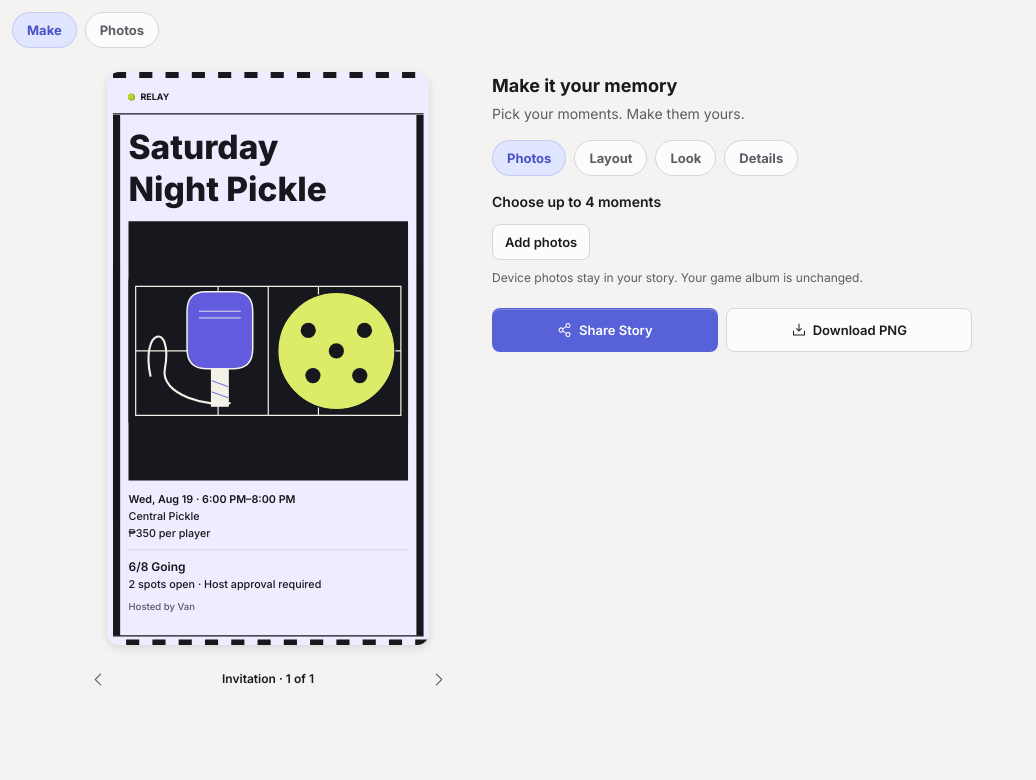
shows Make and Photos before play on public games
Expected: the button "Make" is shown, [12,12,77,48]
Click the button with aria-label "Photos, 0". click: (122, 30)
box: [85,12,159,48]
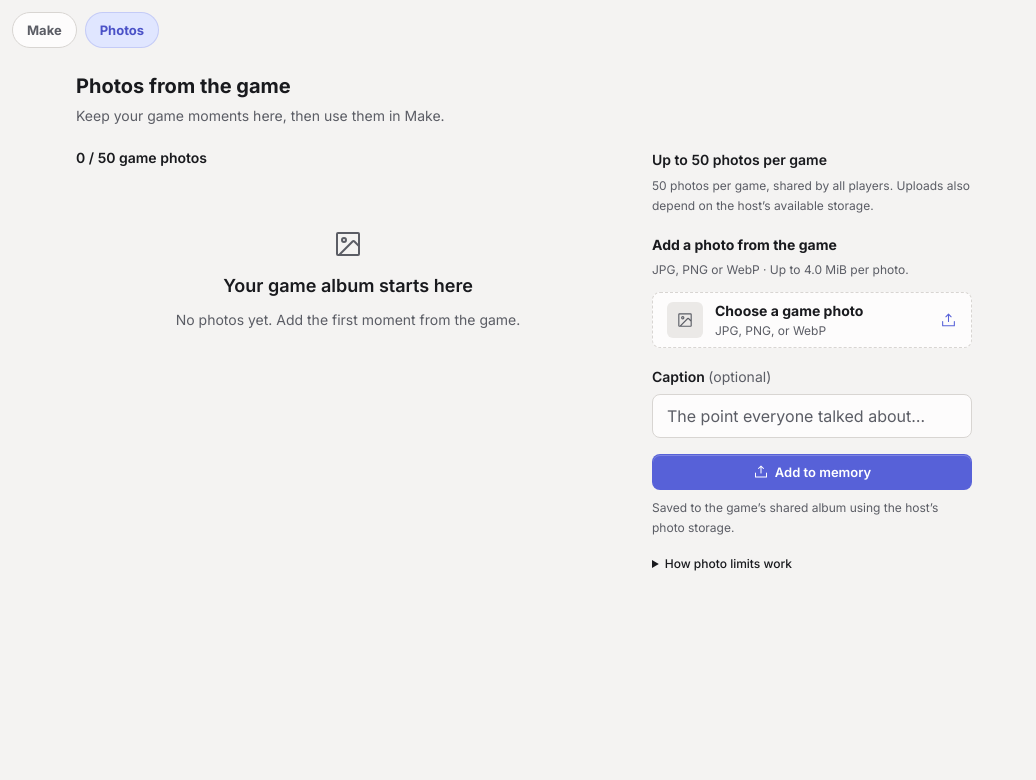
Expected: the form named "Add a game photo" is shown, [652,148,972,582]
Click the button "Make". click: (44, 30)
box: [12,12,77,48]
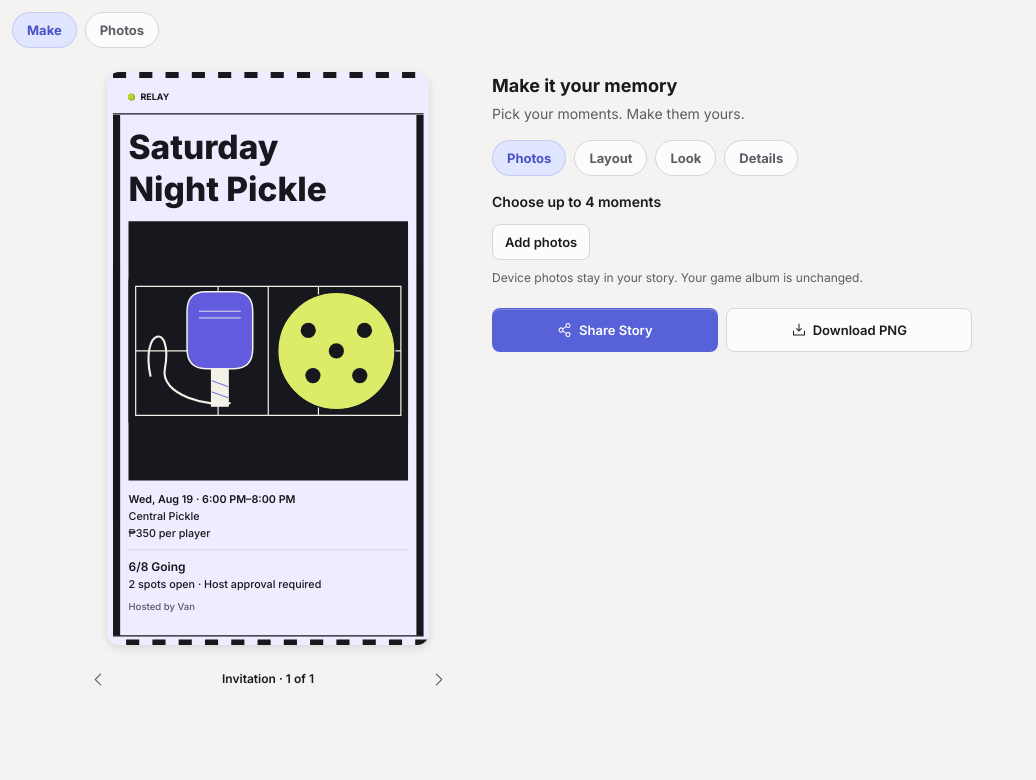
Expected: the element named "Create a story" is shown
